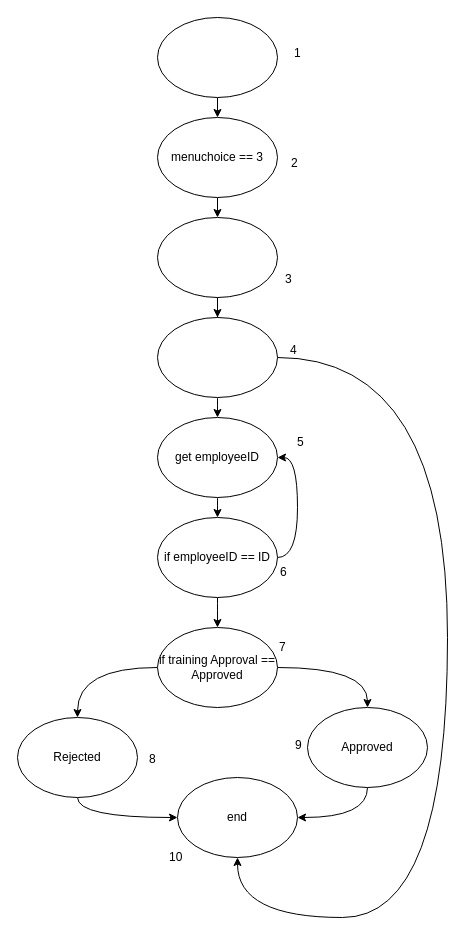
The diagram is 465 pixels wide and 935 high, and some of its shapes have lost their labels. Here are the shapes that lost their labels. From the top down, the box of each, then its label:
(156, 16, 278, 98): start
(156, 216, 278, 298): get choice
(156, 316, 278, 398): if choice == menuchoice
